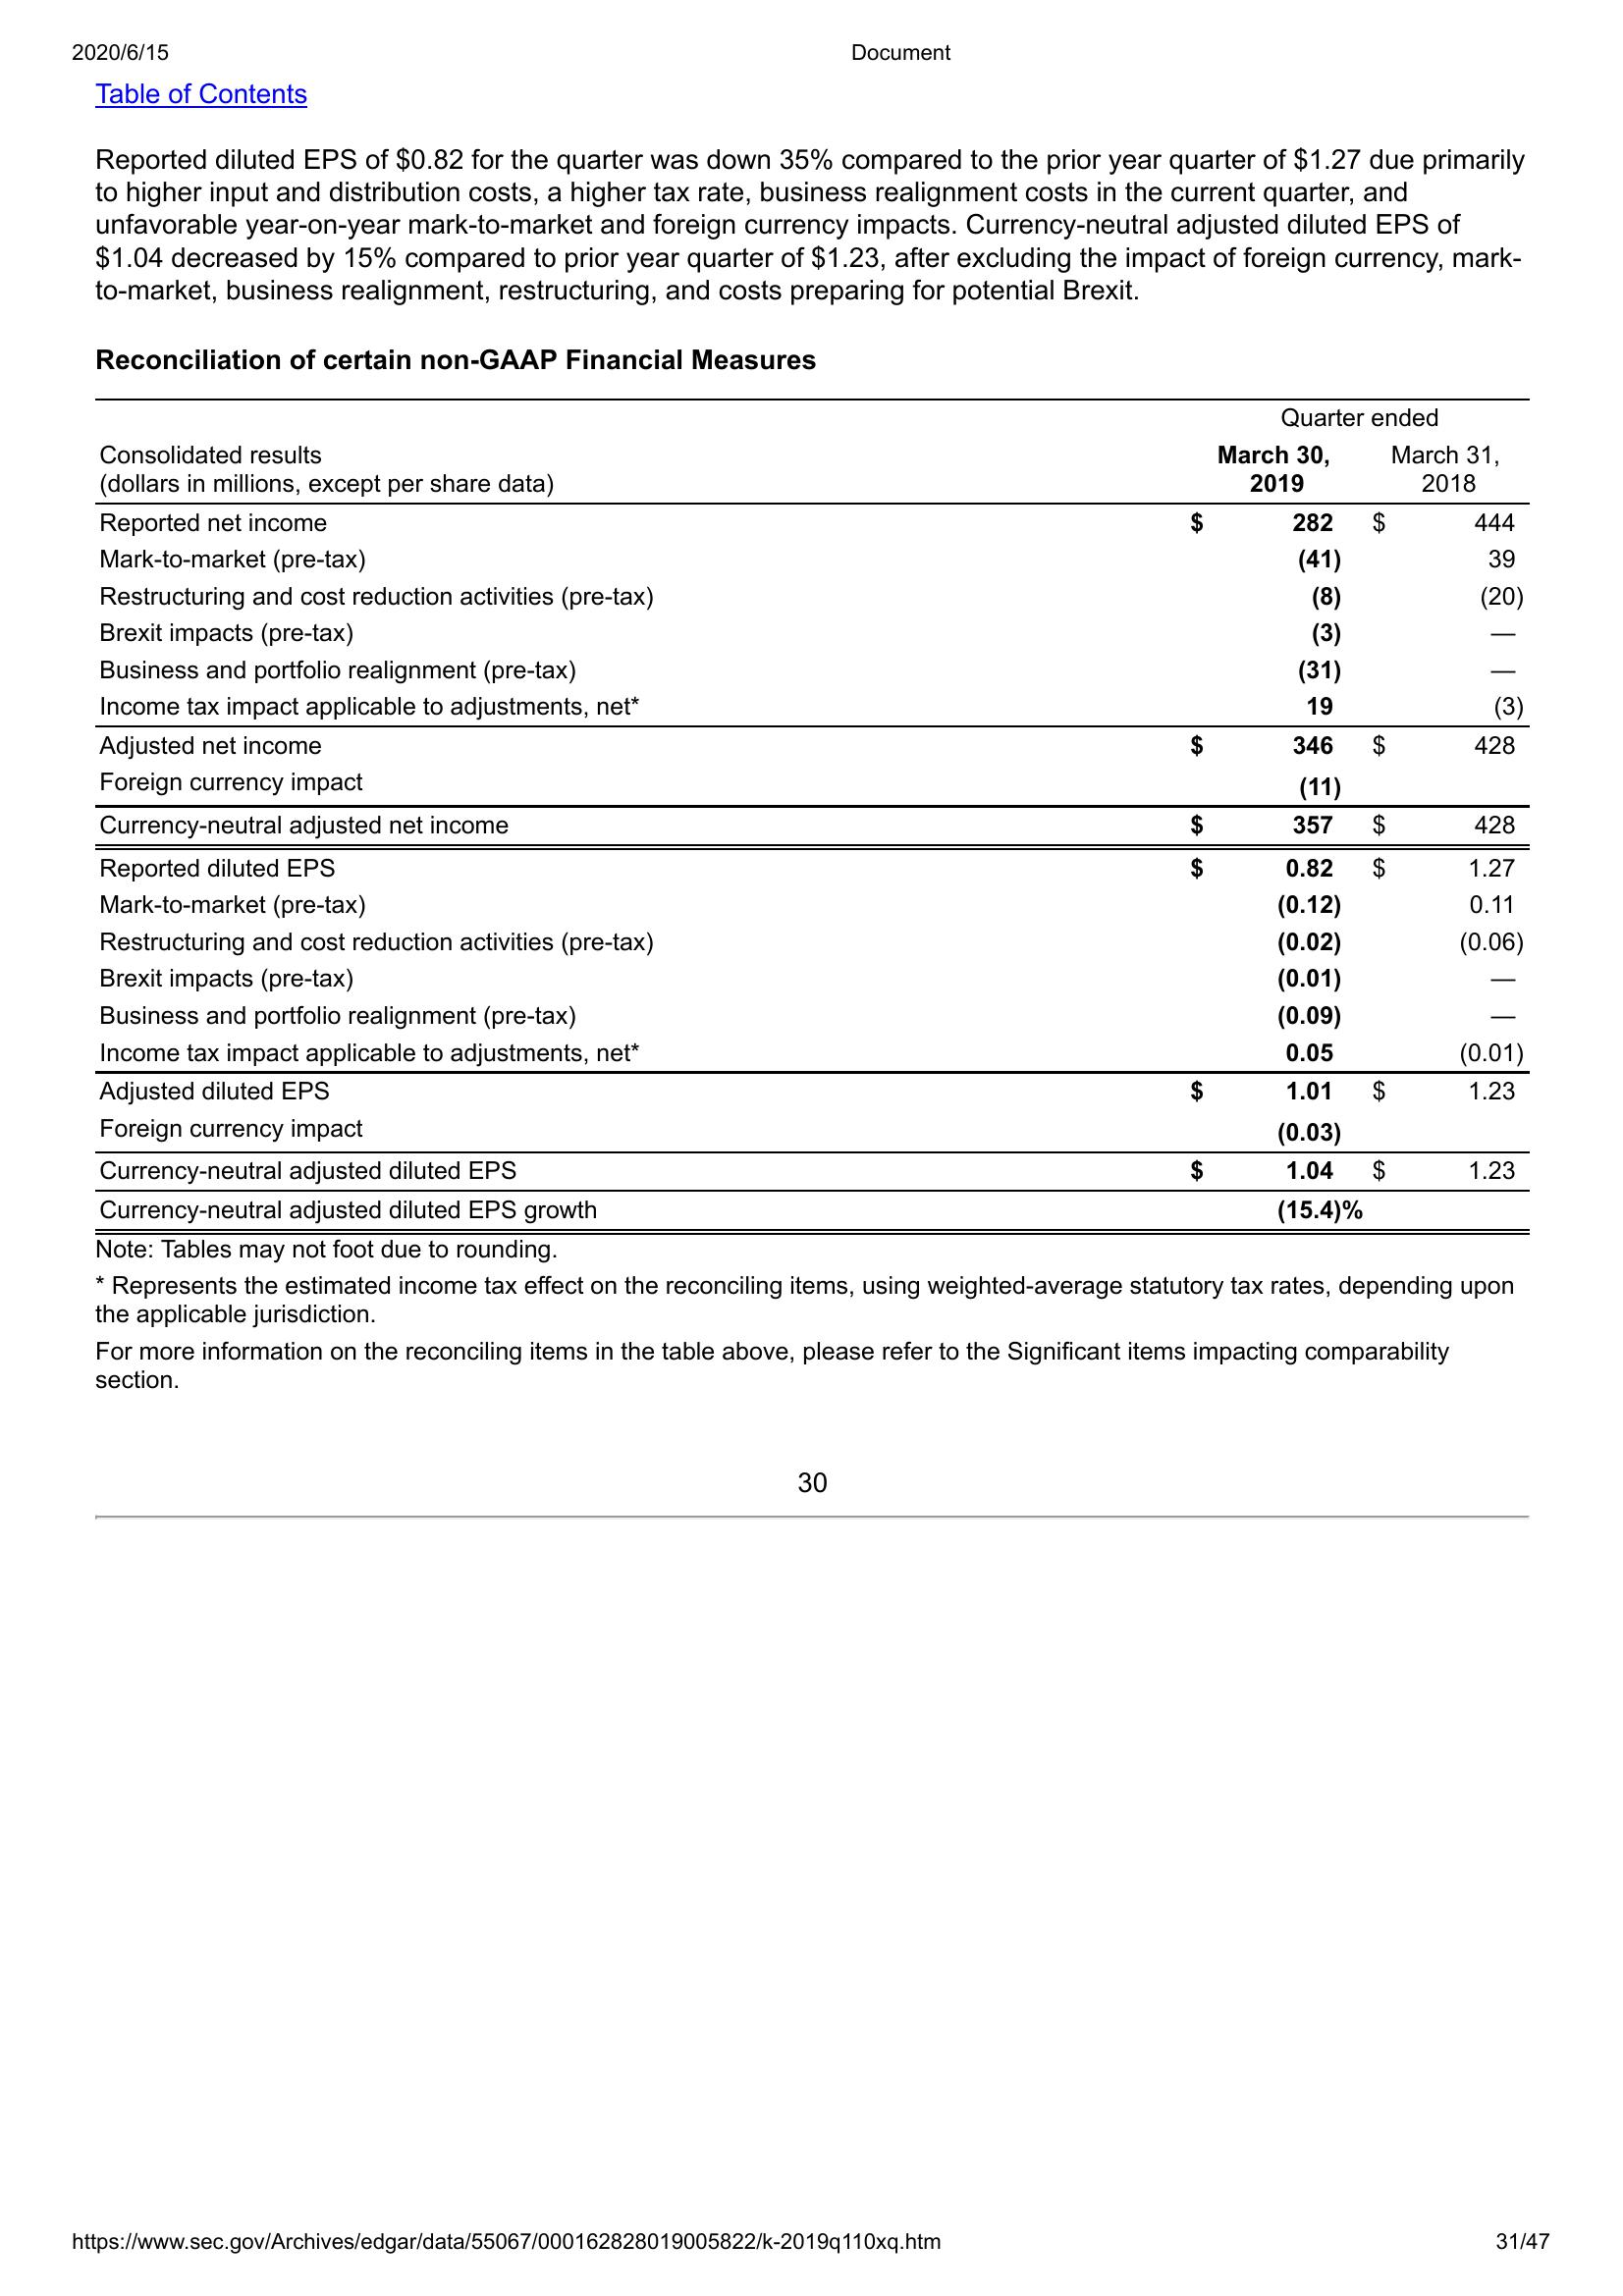table: (95, 388, 1539, 1245)
